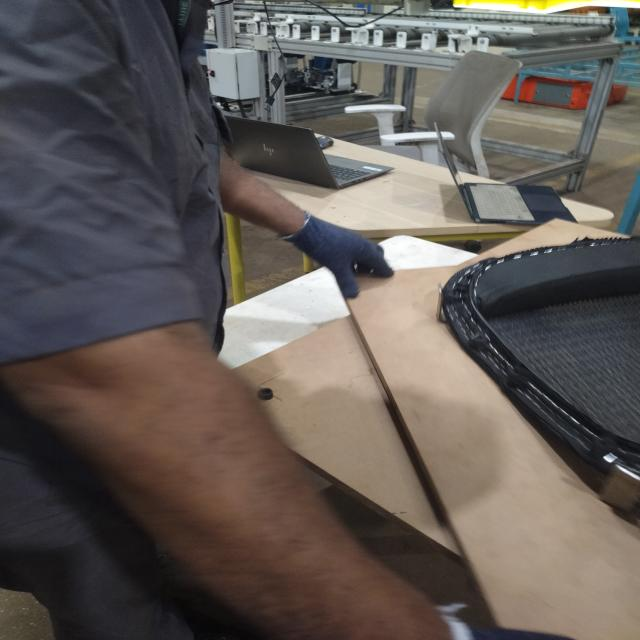Gloves-Detection: (270, 203, 393, 296)
